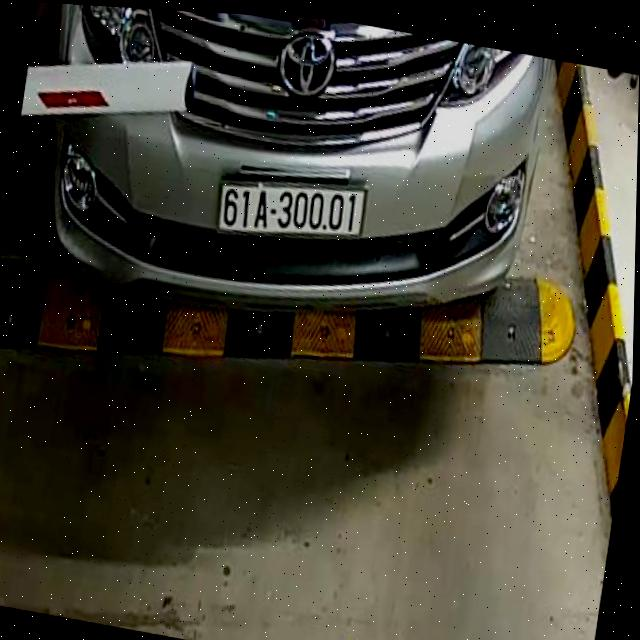car: (14, 1, 551, 361)
plate: (211, 159, 374, 259)
